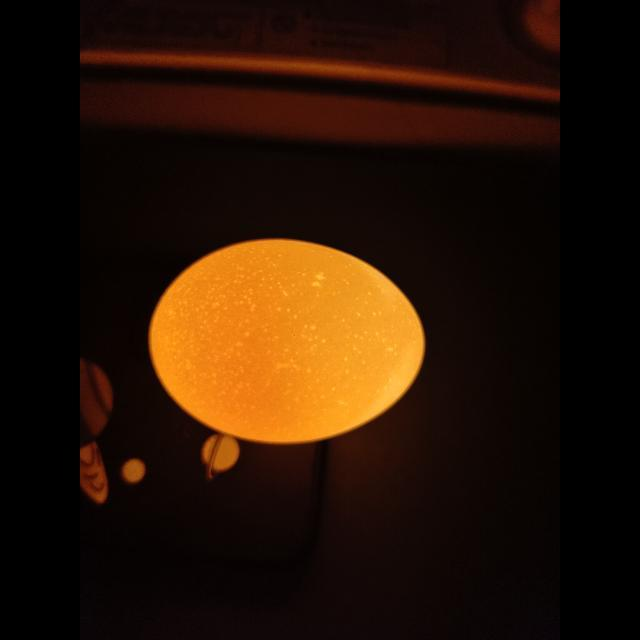AA - Premium: (149, 239, 425, 444)
